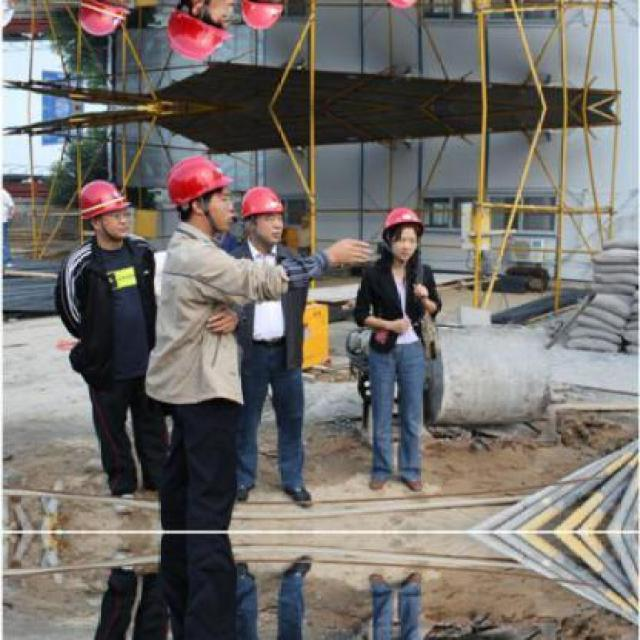boots: (284, 485, 312, 507), (401, 476, 423, 491), (235, 483, 253, 501), (369, 474, 387, 490)
hard-hat: (166, 156, 234, 206), (78, 179, 130, 220), (240, 186, 284, 218), (383, 207, 424, 240)
person: (143, 155, 293, 639), (227, 185, 373, 507), (54, 178, 169, 498), (354, 207, 441, 491)
